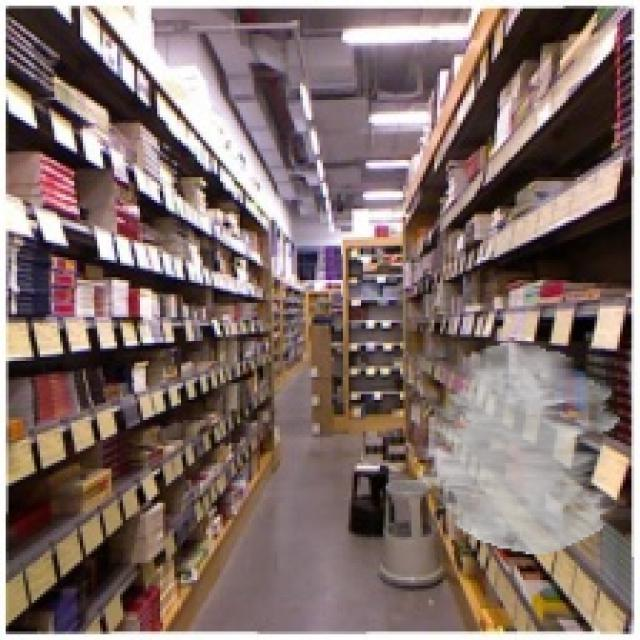smoke: (417, 343, 620, 554)
